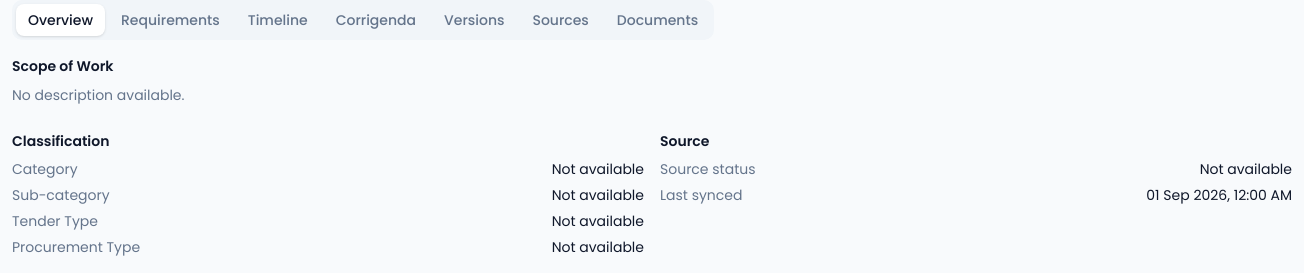
TenderTabs › shows honest empty states
Click the tab "Requirements": (170,20) [109, 4, 232, 36]
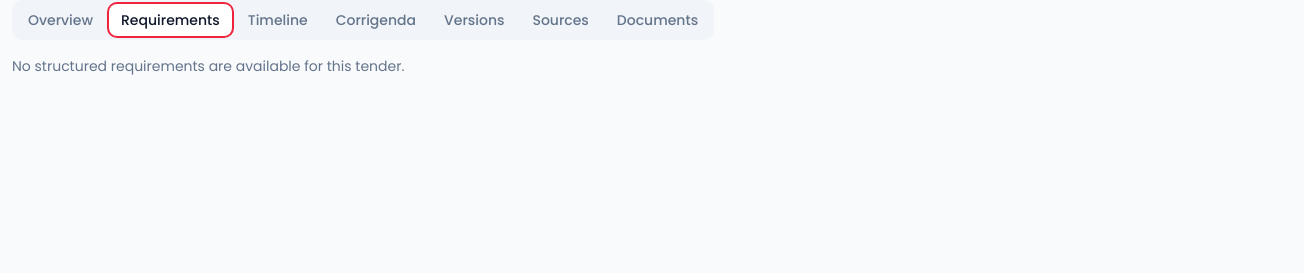
Expected: the text "No structured requirements are available for this tender." is shown, [12, 56, 404, 76]
Click the tab "Timeline": (278,20) [236, 4, 320, 36]
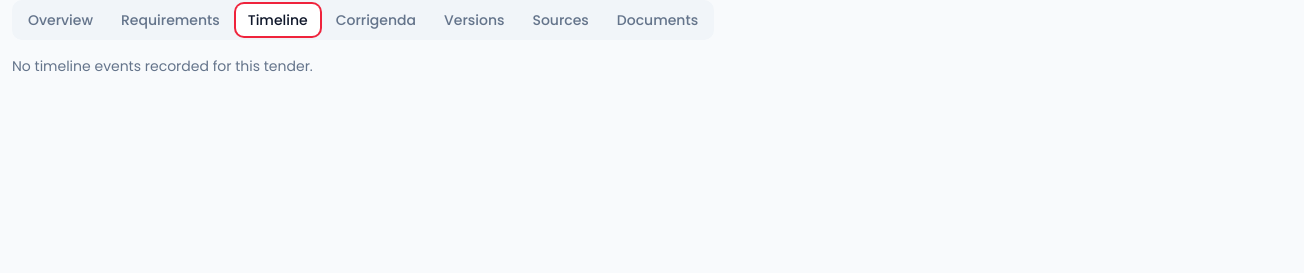
Expected: the text "No timeline events recorded for this tender." is shown, [12, 56, 313, 76]
Click the tab "Corrigenda": (376,20) [324, 4, 428, 36]
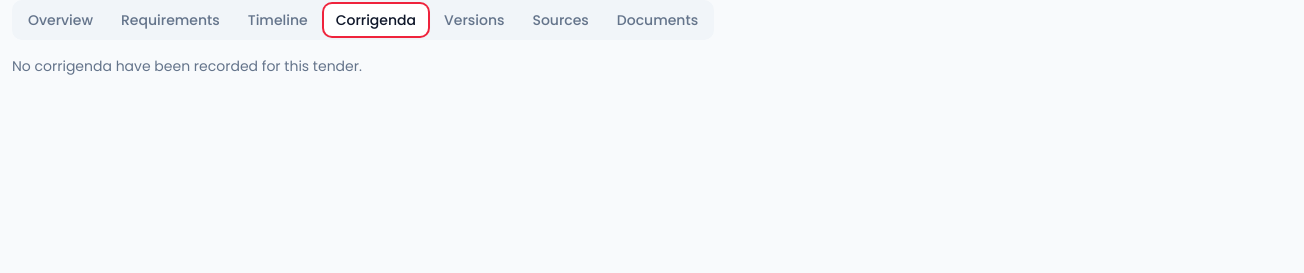
Expected: the text "No corrigenda have been recorded for this tender." is shown, [12, 56, 362, 76]
